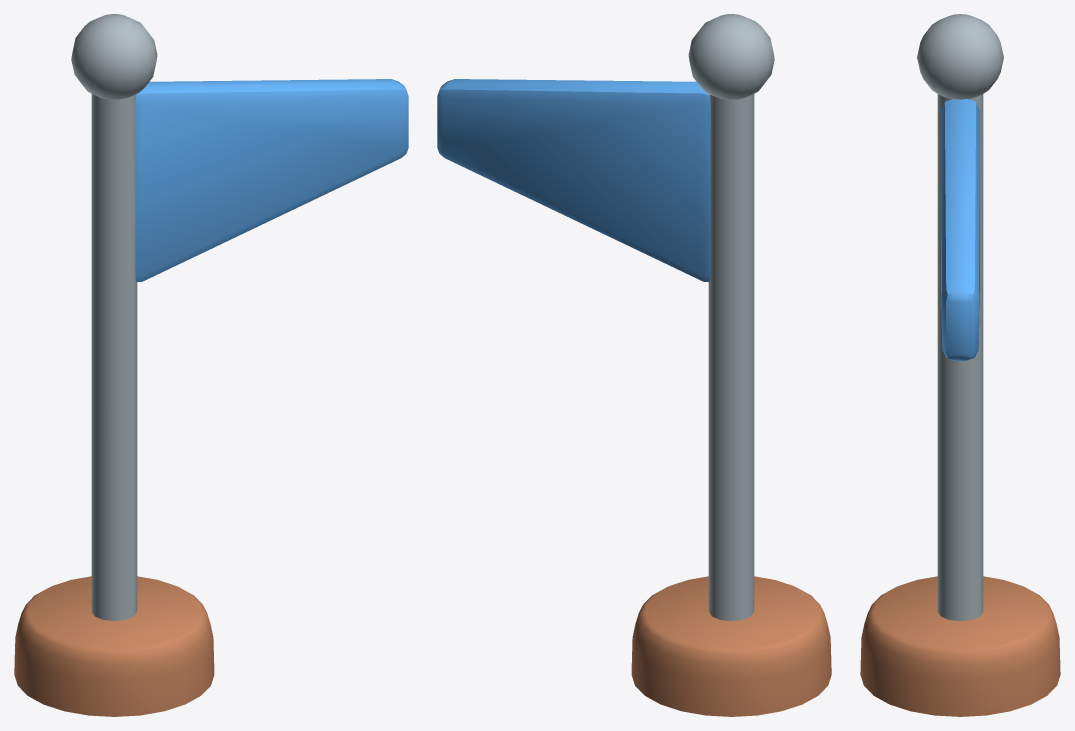
File: flag_teamBlue.glb
3 renders of one model, left to right at view 1: azimuth 30°, elevation 25°; view 2: azimuth 150°, elevation 25°; view 3: azimuth 270°, elevation 25°, orthographic.
Parts seen in each view (by area): view 1: flag_teamBlue; view 2: flag_teamBlue; view 3: flag_teamBlue.
Boxes of the visible parts, bbox=[...] form: flag_teamBlue: bbox=[14, 14, 408, 716]; flag_teamBlue: bbox=[437, 14, 831, 716]; flag_teamBlue: bbox=[860, 14, 1060, 716].
Bounding box in the file's own units: 0.3602 × 0.5999 × 0.1657.
